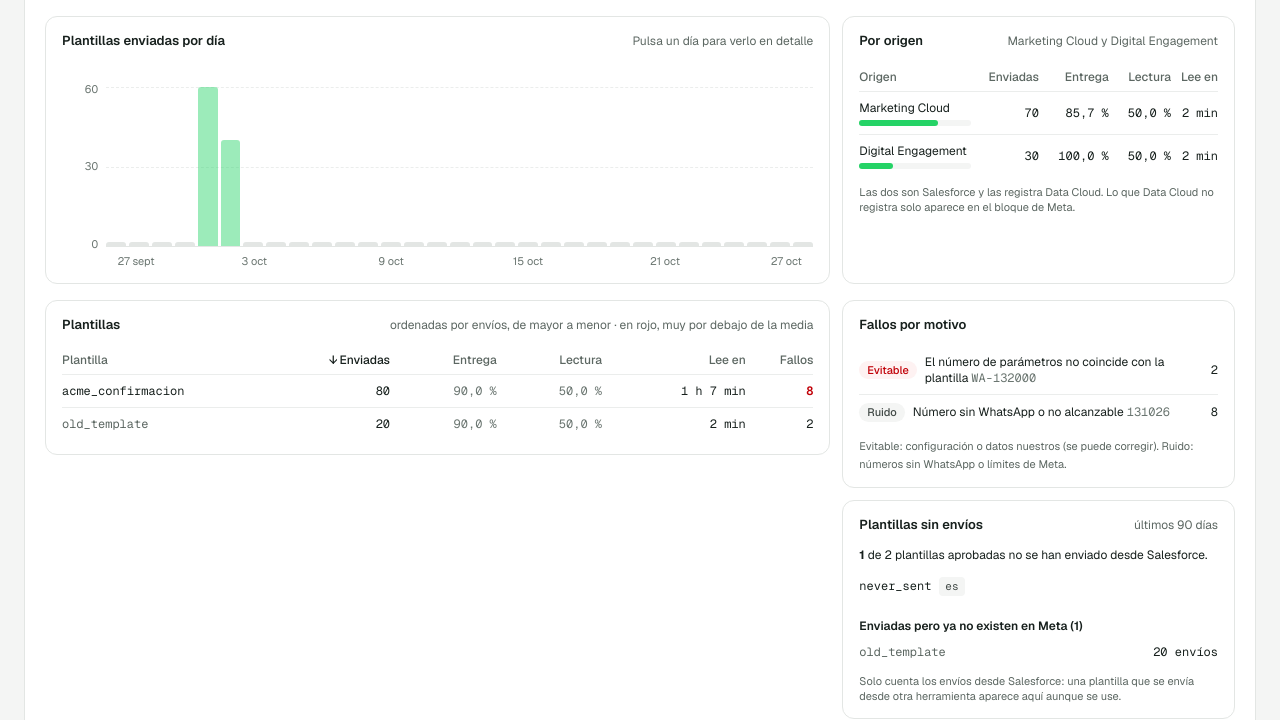
Test case: AnalyticsView › sorts the templates by a column, both ways
(page scrolled)
Click the button "Entrega". click: [475, 360]
box: [453,352,497,368]
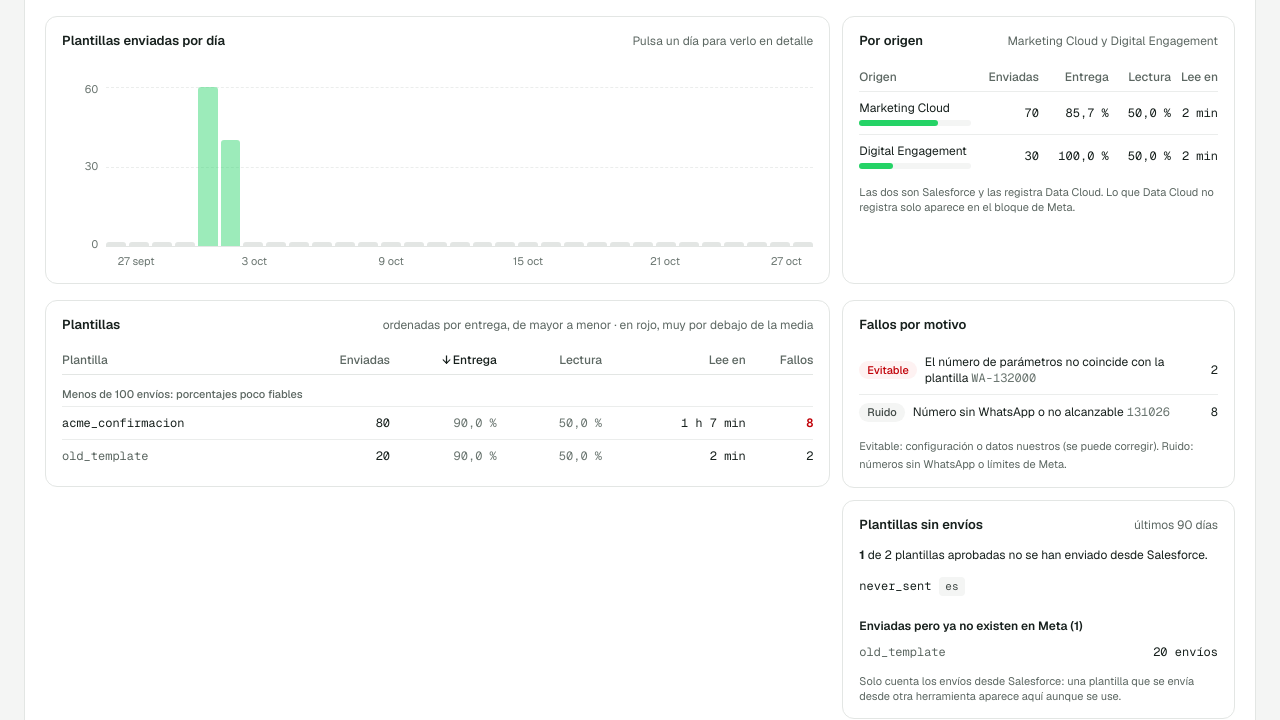
Expected: the column heading "↓ Entrega" has attribute aria-sort="descending", [398,346,505,374]
Click the button "↓ Entrega". click: [475, 360]
box: [453,352,497,368]
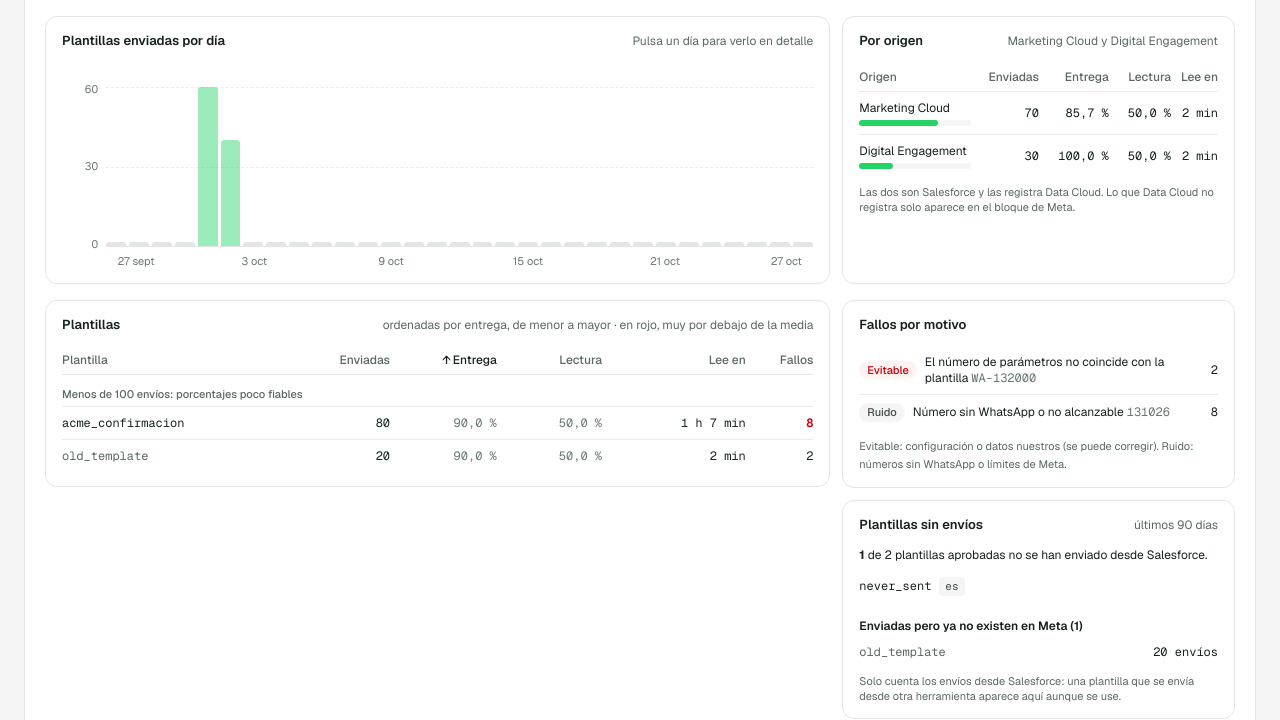
Expected: the text "ordenadas por entrega, de menor a mayor" is shown, [383,316,813,332]
